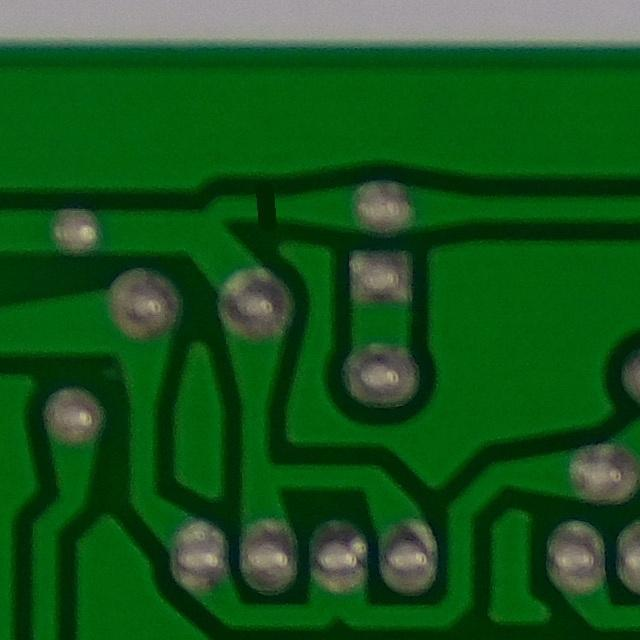open_circuit: (237, 181, 295, 238)
